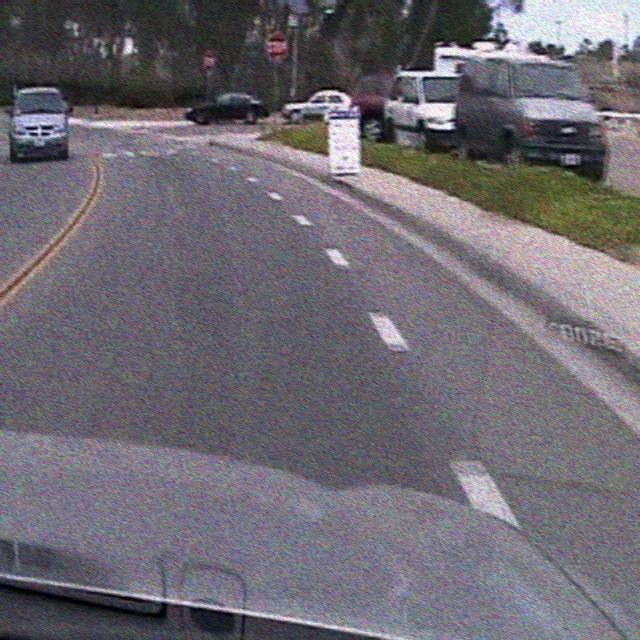stop: (265, 28, 290, 64), (203, 47, 216, 72)
